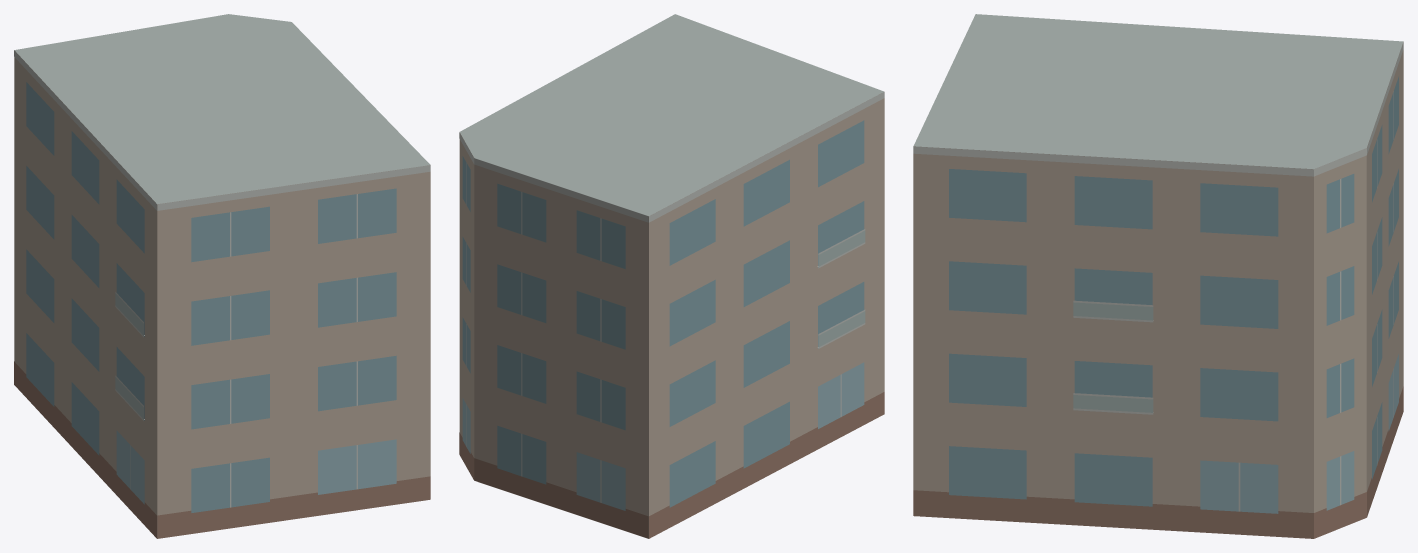
The model's file is survey-upis-32700945.glb.
3 renders of one model, left to right at view 1: azimuth 30°, elevation 25°; view 2: azimuth 150°, elevation 25°; view 3: azimuth 270°, elevation 25°, orthographic. The views are drawn at different scales.
Visible parts, largest first — view 1: survey-upis-32700945.tmp; view 2: survey-upis-32700945.tmp; view 3: survey-upis-32700945.tmp.
Boxes of the visible parts, x1,y1,x2,y2 form: survey-upis-32700945.tmp: [14, 14, 430, 538]; survey-upis-32700945.tmp: [459, 14, 884, 538]; survey-upis-32700945.tmp: [913, 14, 1403, 538].
Size of the model in its own units: 10.99 by 12.2 by 14.67.
